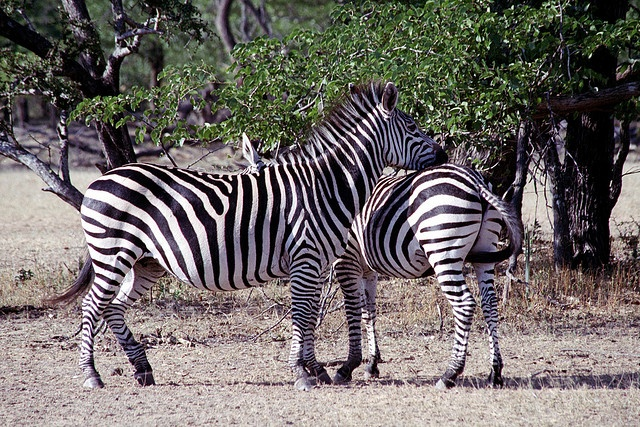zebra: (46, 81, 449, 387), (244, 132, 524, 387)
